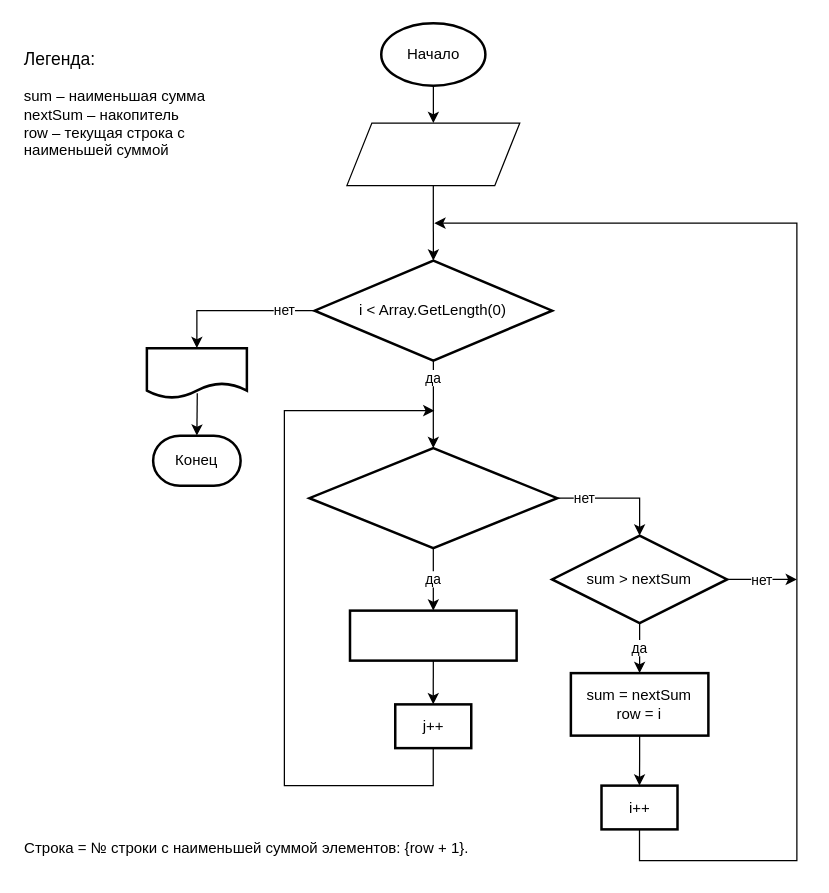
The diagram is 829 pixels wide and 893 high, and some of its shapes have lost their labels. Each missing label, with the centre of its shape:
Array[row, column]: point (433, 154)
j < Array.GetLength(1): point (433, 497)
nextSum += Array[i, j]: point (432, 635)
Строка: point (196, 372)
